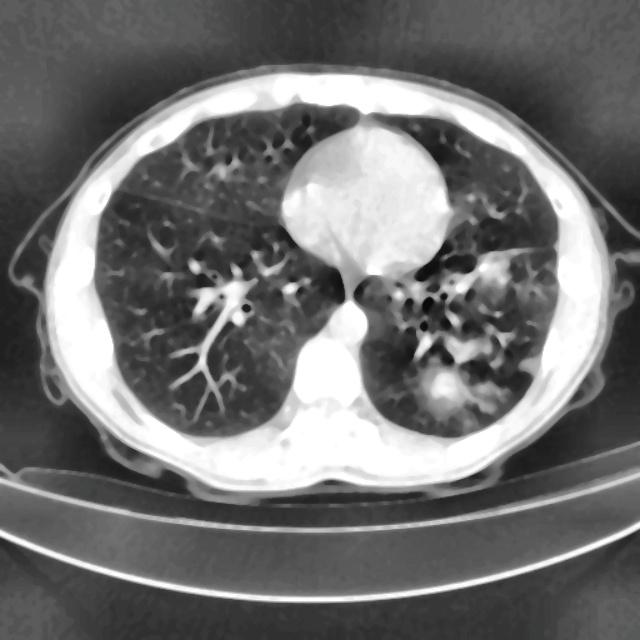covid: (13, 64, 633, 503)
